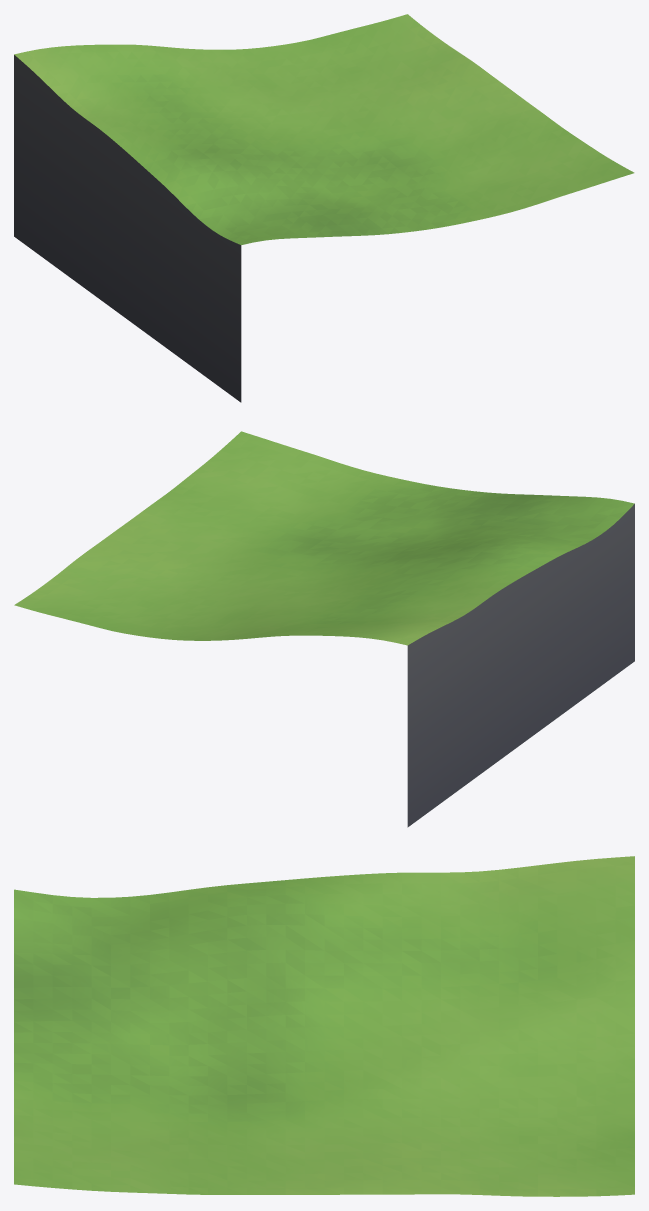
The model's file is terrain_r2_c0.glb.
3 renders of one model, top to bottom at view 1: azimuth 30°, elevation 25°; view 2: azimuth 150°, elevation 25°; view 3: azimuth 270°, elevation 25°, orthographic. The views are drawn at different scales.
Visible parts, largest first — view 1: terrain_r2_c0; view 2: terrain_r2_c0; view 3: terrain_r2_c0.
Part boxes in pixels (box(x1,y1,x2,y2)): terrain_r2_c0: box(14, 14, 634, 402); terrain_r2_c0: box(14, 431, 634, 827); terrain_r2_c0: box(14, 856, 634, 1196).
Size of the model in its own units: 128 by 56.57 by 128.
Materials: 1 (1 with a texture image).
